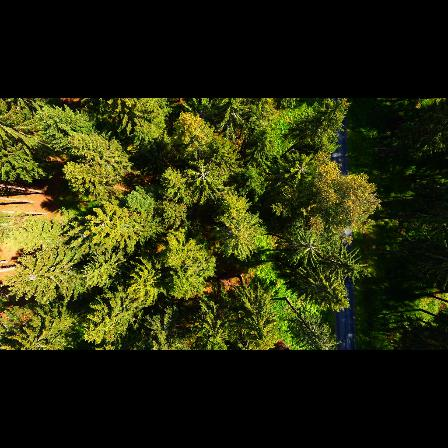Sick: (183, 159, 222, 190), (297, 233, 323, 260), (293, 154, 315, 182)
